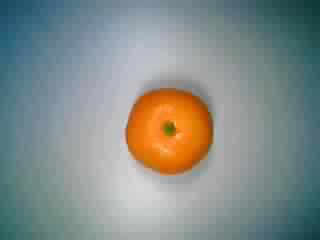orange: (119, 82, 218, 179)
